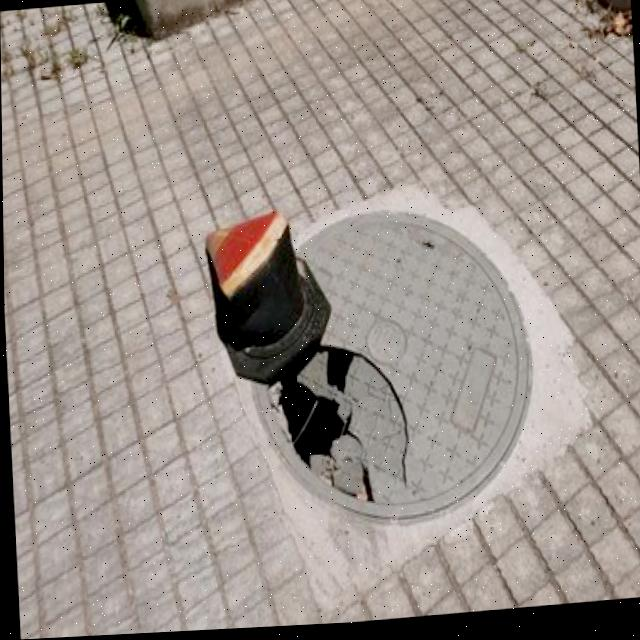manhole: (215, 190, 544, 539)
